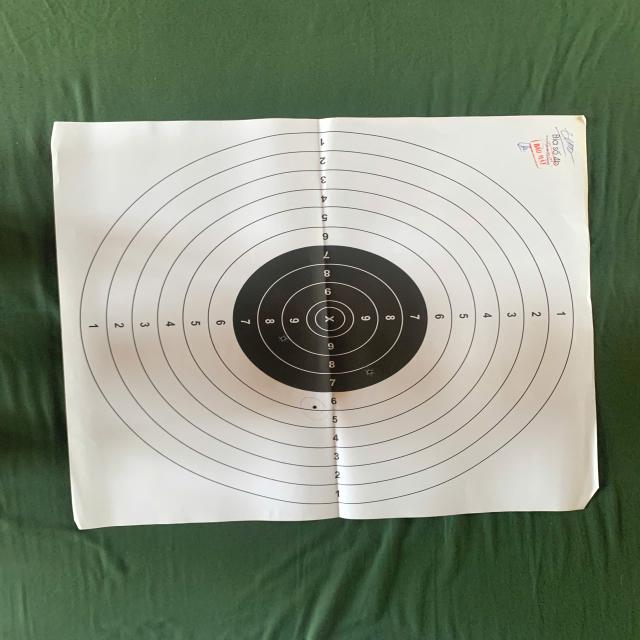bullet: (366, 369, 374, 376), (280, 336, 288, 342), (312, 405, 317, 409)
target: (52, 116, 598, 529)
